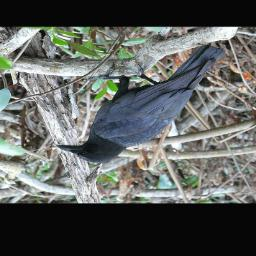Crow: (55, 41, 227, 164)
